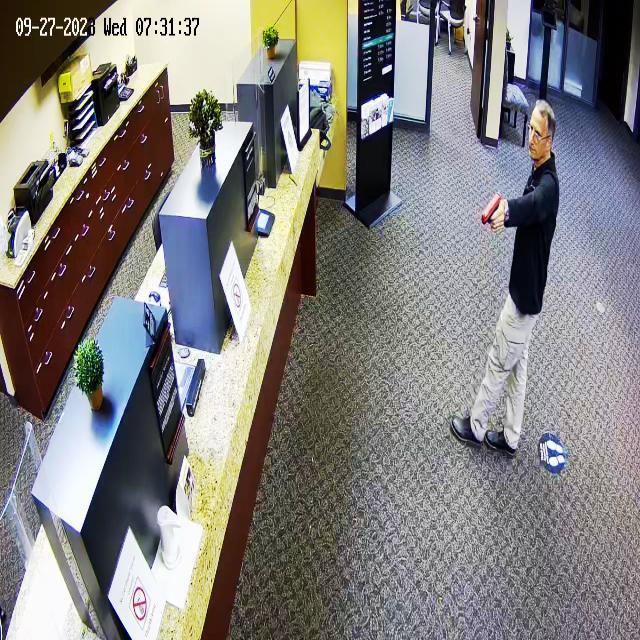Gun: (479, 189, 516, 247)
